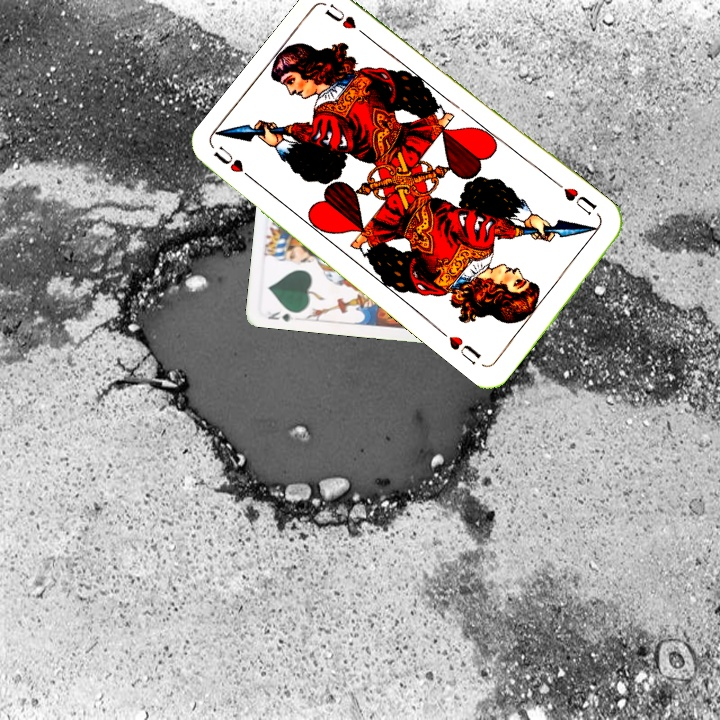GK: (264, 307, 296, 324)
HU: (209, 142, 260, 186), (559, 183, 599, 218)
